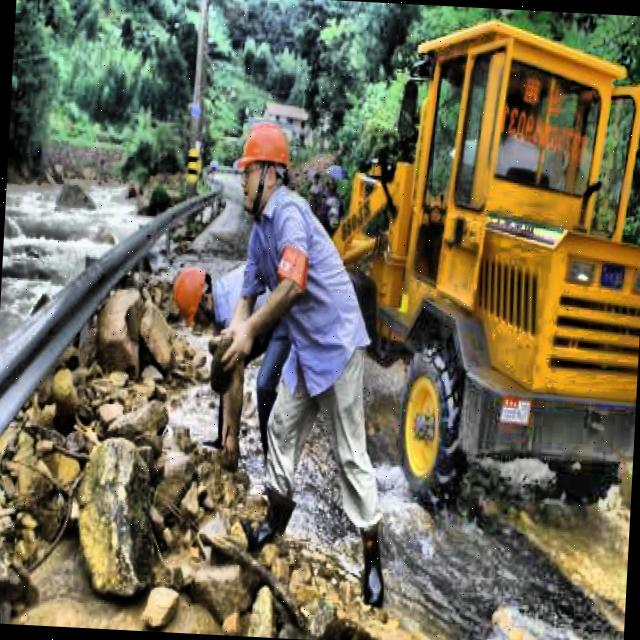helmet: (231, 116, 296, 214), (166, 258, 223, 332)
